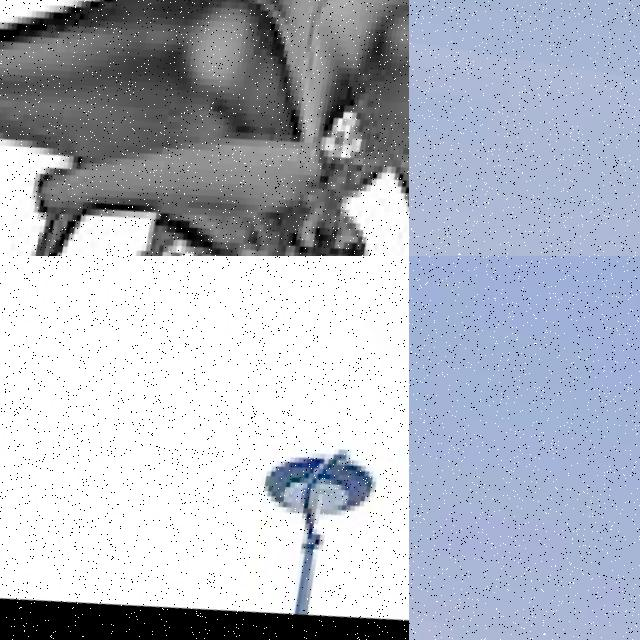drone: (0, 256, 409, 640), (0, 0, 409, 256)
